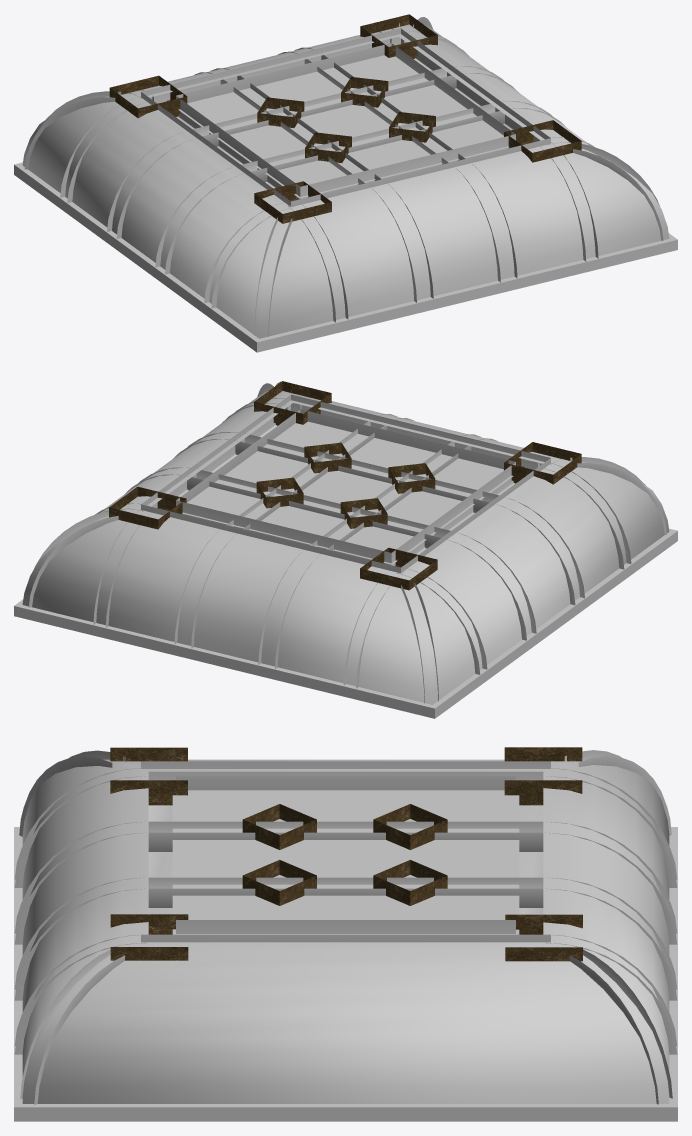
Rendered from DG_Ceiling_Hub_B.FBX.
3 renders of one model, top to bottom at view 1: azimuth 30°, elevation 25°; view 2: azimuth 150°, elevation 25°; view 3: azimuth 270°, elevation 25°, orthographic. The views are drawn at different scales.
Visible parts, largest first — view 1: DG_Ceiling_Hub_B; view 2: DG_Ceiling_Hub_B; view 3: DG_Ceiling_Hub_B.
Boxes of the visible parts, x1,y1,x2,y2 form: DG_Ceiling_Hub_B: (14,14,677,352); DG_Ceiling_Hub_B: (14,381,677,718); DG_Ceiling_Hub_B: (14,747,677,1121).
Size of the model in its own units: 1515 by 337 by 1515.
